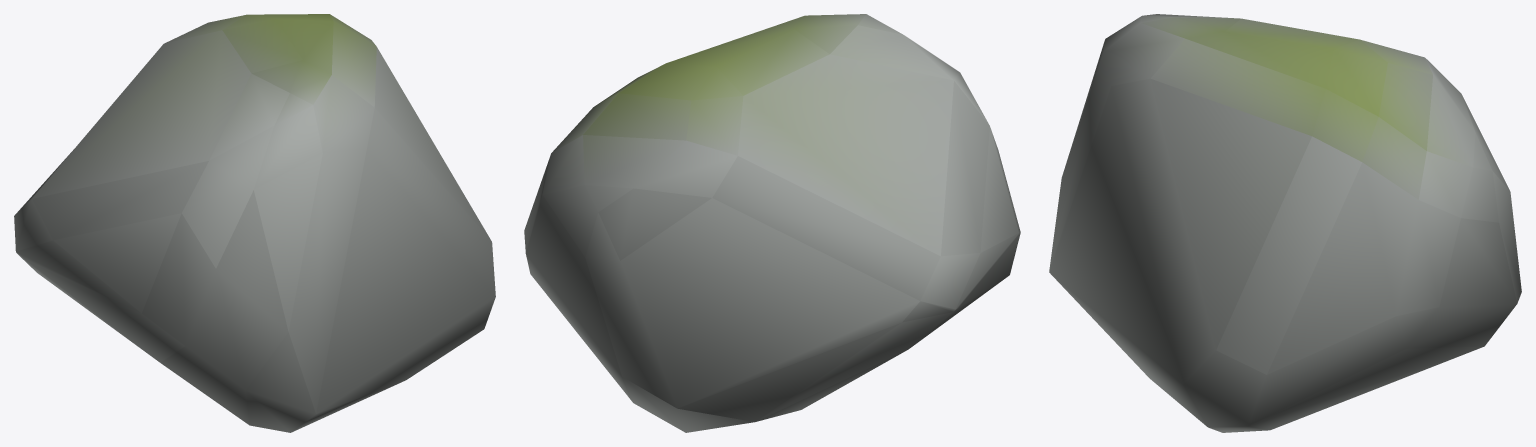
Rendered from rock-a.glb.
3 renders of one model, left to right at view 1: azimuth 30°, elevation 25°; view 2: azimuth 150°, elevation 25°; view 3: azimuth 270°, elevation 25°, orthographic. The views are drawn at different scales.
Visible parts, largest first — view 1: gather-rock-a; view 2: gather-rock-a; view 3: gather-rock-a.
Boxes of the visible parts, <box> form: gather-rock-a: <box>14,14,495,432</box>; gather-rock-a: <box>524,14,1020,432</box>; gather-rock-a: <box>1049,14,1521,432</box>.
Bounding box in the file's own units: 0.867 × 0.6436 × 0.8147.
